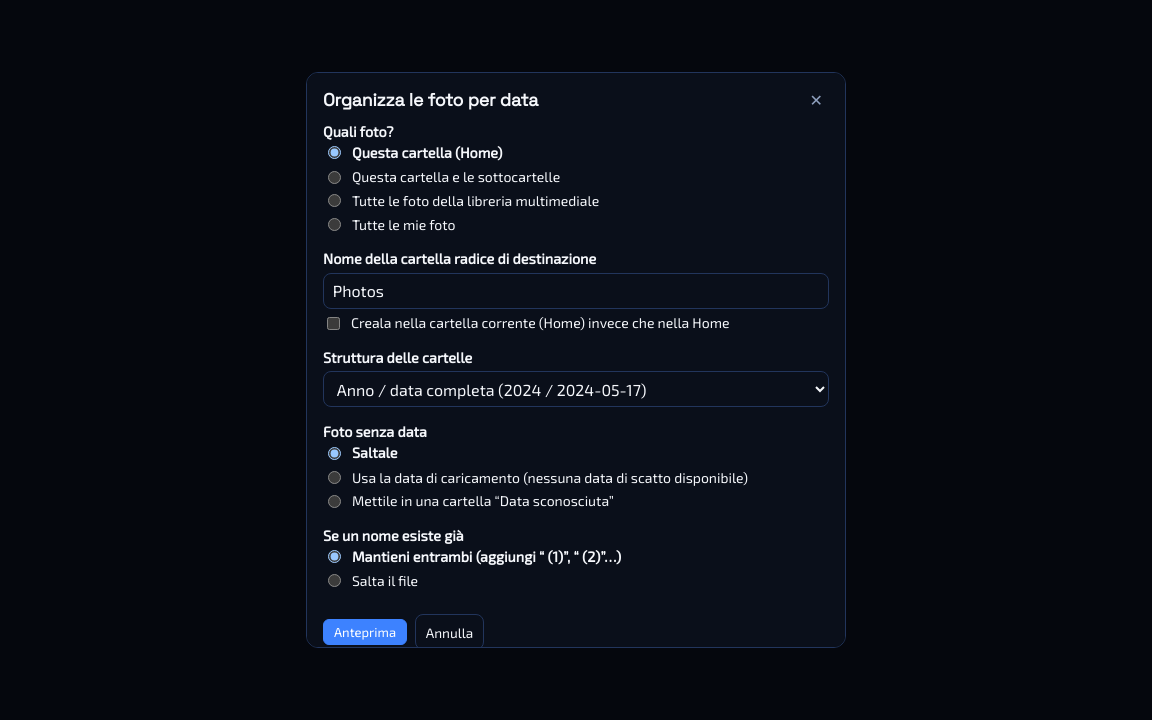
Test case: OrganizeByDateWizard › runs a dry-run preview and shows the summary + examples
Click the button "Anteprima".
click(365, 632)  # box [323,619,407,645]
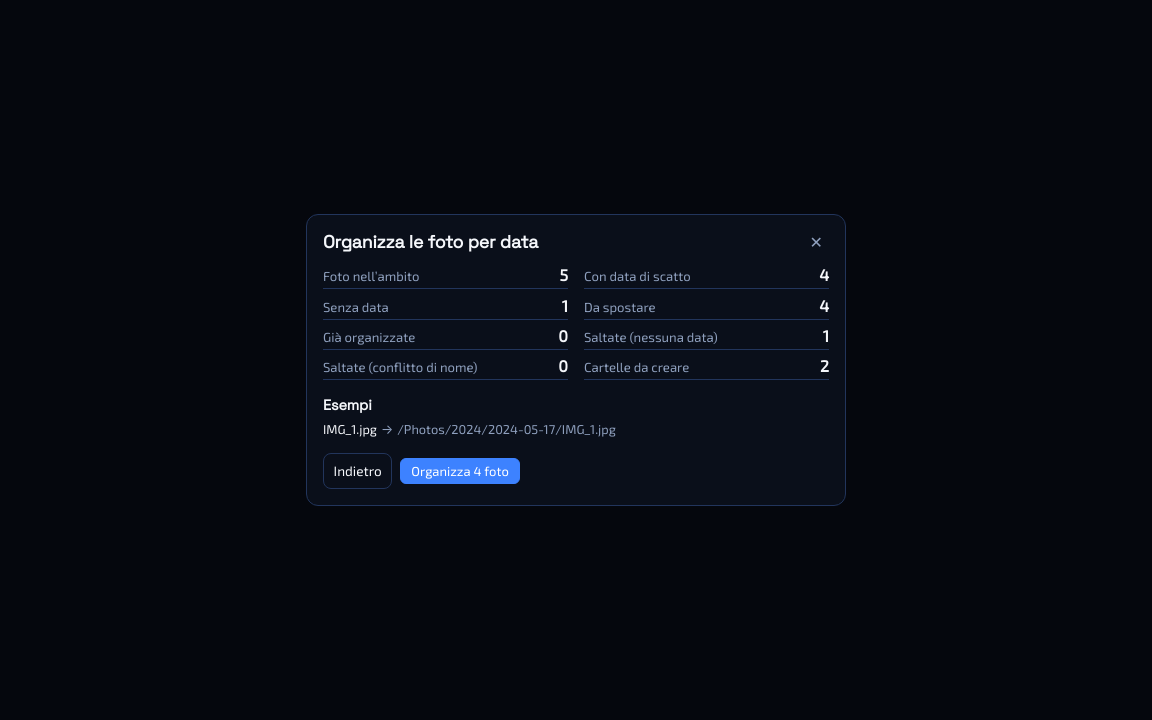
expect the text "Da spostare" is shown: met, box [584,299,656,315]
expect the text "IMG_1.jpg" is shown: met, box [323,421,377,437]
expect the text "/Photos/2024/2024-05-17/IMG_1.jpg" is shown: met, box [397,421,616,437]
